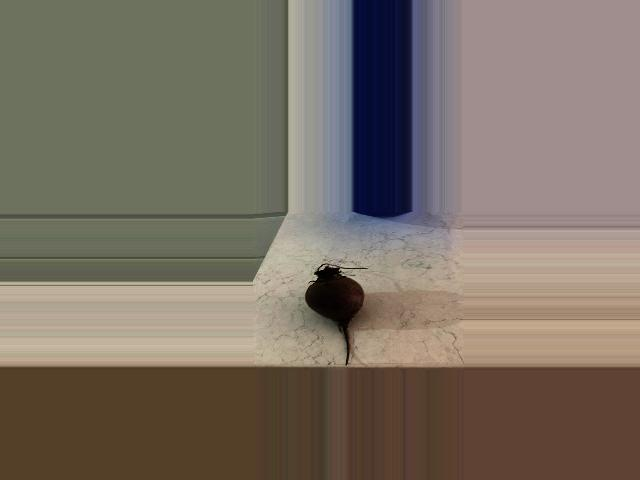beet: (306, 263, 368, 365)
